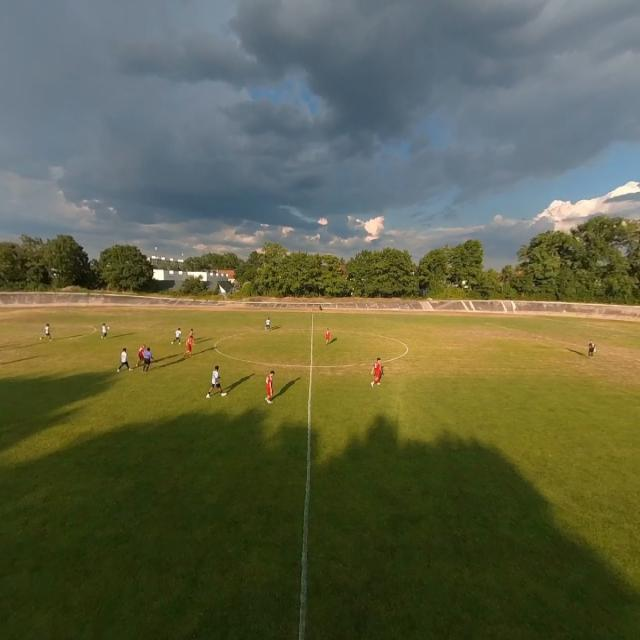ball: (108, 326, 110, 331)
